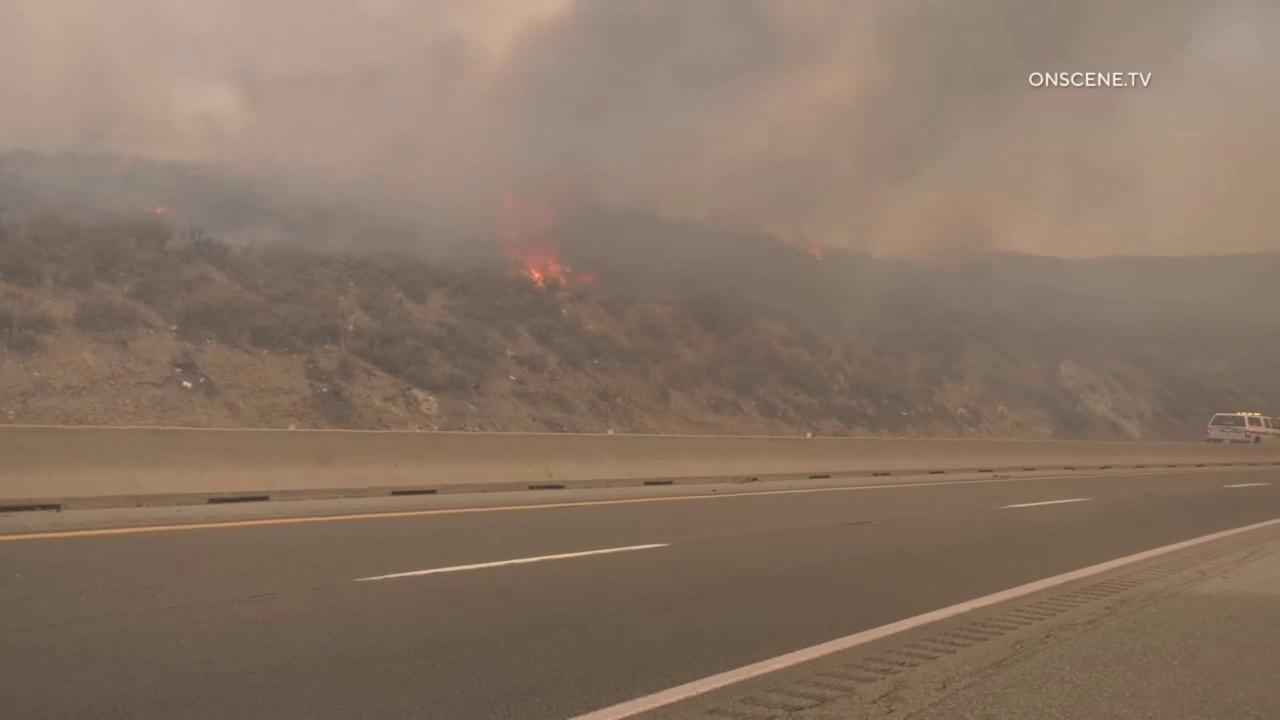fire: (492, 192, 595, 290), (106, 154, 136, 176), (807, 247, 826, 262), (150, 204, 169, 216)
smoke: (0, 0, 1280, 400)
